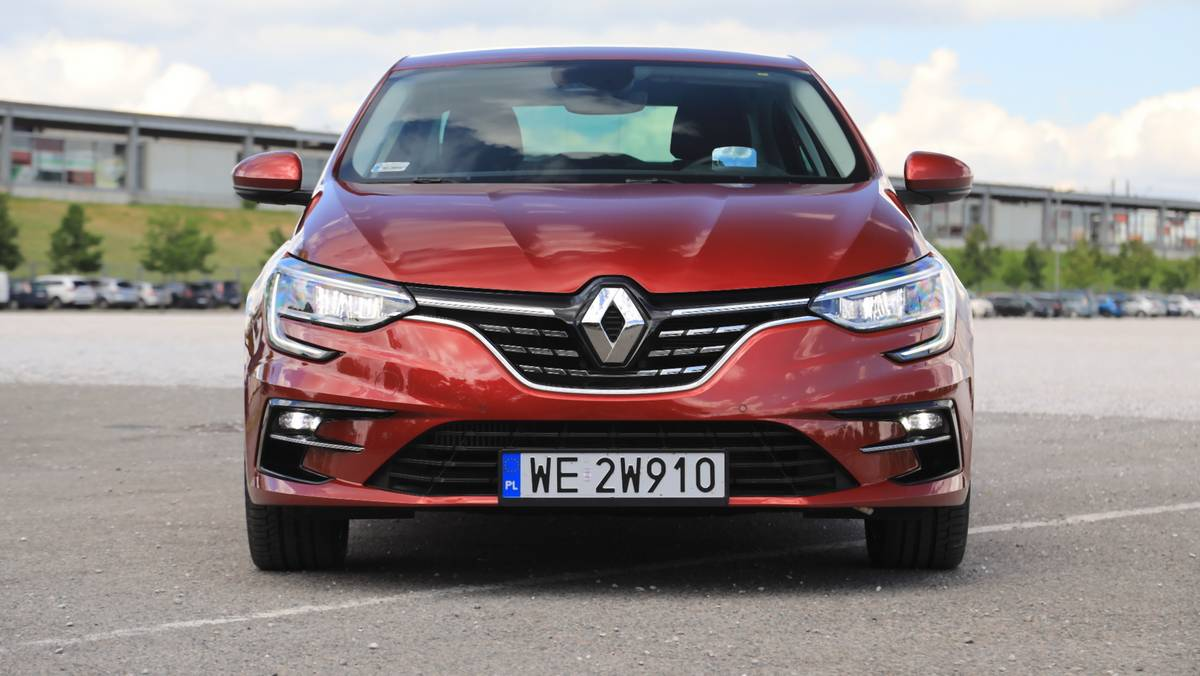number_plate: (501, 452, 726, 505)
